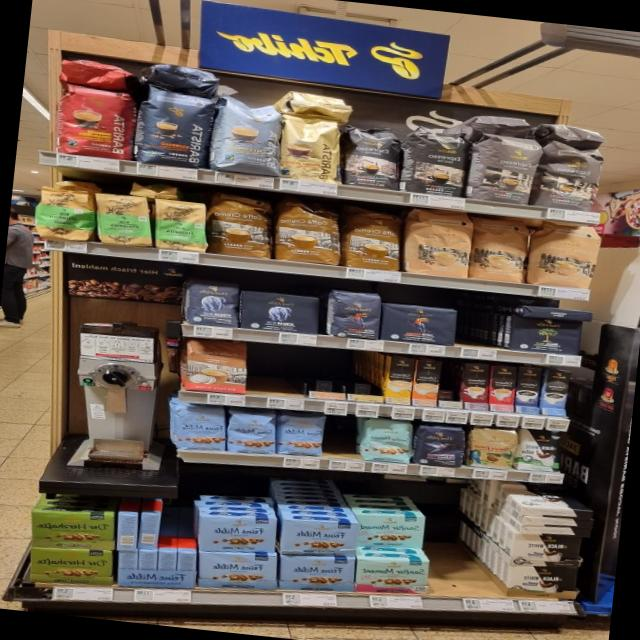AB Bohne: (183, 280, 240, 327)
AB Gemahlen: (238, 289, 322, 335)
Athiopien Bohne: (32, 184, 96, 242)
Athiopien Gemahlen: (92, 191, 156, 249), (150, 197, 212, 254)
BM Gemahlen: (507, 312, 587, 356)
BW Bohne: (514, 429, 566, 474)
BW Gemahlen: (510, 532, 584, 567), (508, 565, 579, 591)
Barista CB: (274, 110, 348, 184)
Barista Espresso: (131, 85, 218, 169)
Barista Kolumbien: (53, 83, 138, 162)
C Fino Bohne: (411, 422, 467, 467)
CC Mild: (526, 219, 602, 292), (401, 205, 473, 278), (468, 213, 533, 283)
CC Vollmundig: (182, 336, 250, 395)
CC Vollmundig 36 Pads: (272, 195, 345, 267), (206, 187, 277, 259), (340, 201, 406, 273)
Colombia BB Bohne: (466, 425, 519, 471)
Empty Shelf: (429, 554, 510, 597), (247, 343, 302, 397), (455, 297, 508, 351), (302, 346, 345, 394), (324, 415, 365, 460), (347, 350, 387, 396), (439, 360, 462, 401)
Espresso Aromatisch: (465, 130, 544, 206), (536, 140, 605, 214)
Espresso Kraftig: (401, 124, 472, 198), (341, 119, 405, 191)
FM Bohne: (172, 403, 228, 451), (224, 409, 279, 454), (275, 411, 327, 458)
FM Gemahlen: (198, 550, 277, 590), (280, 519, 358, 557), (279, 554, 356, 592), (199, 515, 276, 552)
Herzhatfe Mundig: (30, 511, 113, 550), (29, 547, 113, 585)
LG Bohne: (324, 287, 385, 340)
LG Gemahlen: (381, 300, 459, 346)
SM Bohne: (364, 418, 414, 464)
SM Gemahlen: (356, 558, 430, 595), (354, 513, 425, 549)
Simo CCMild bigpack: (384, 355, 415, 404)
Simo CCVollmundig bigpack: (411, 357, 442, 407)
Simo Es Brazil: (489, 363, 516, 413)
Simo Es Caramel: (462, 361, 491, 411)
Simo Es Kraft: (514, 365, 543, 415)
Simo Es Vanilla: (542, 369, 573, 416)
